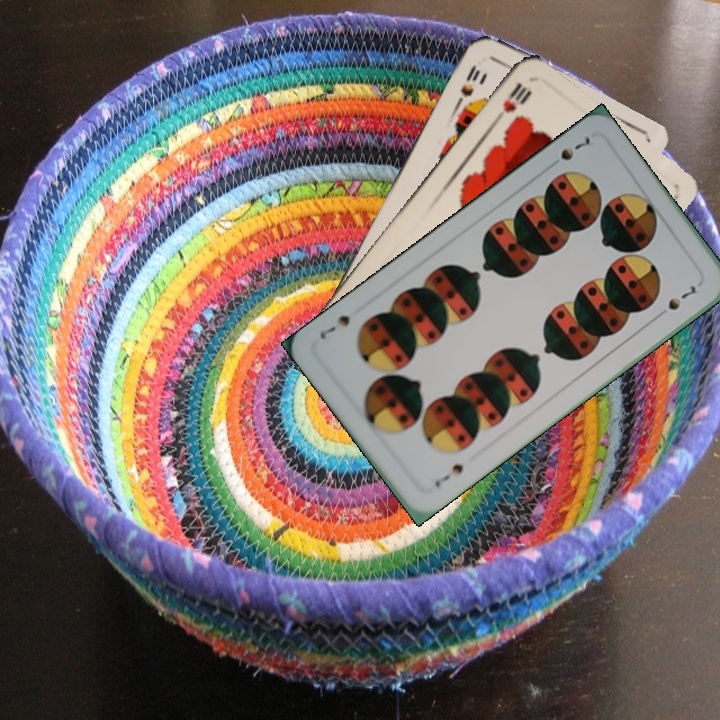H10: (489, 78, 534, 127)
S10: (452, 60, 483, 109)
S7: (543, 131, 593, 172), (430, 459, 467, 490)
